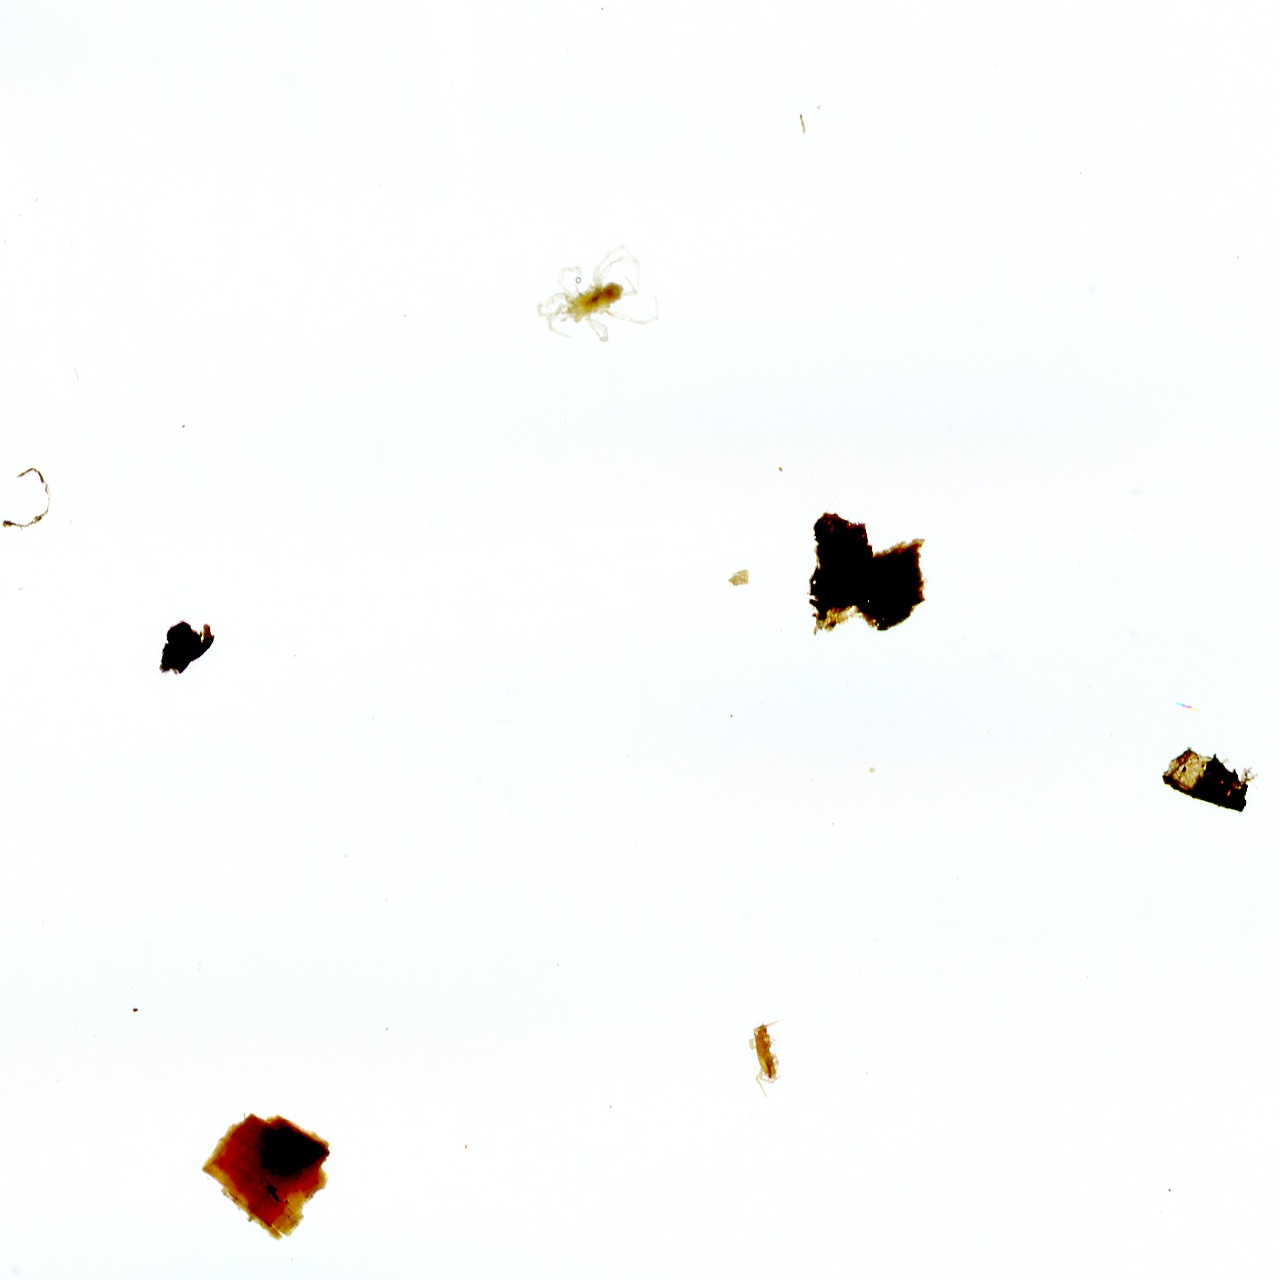arthropod: (531, 234, 668, 348), (745, 1014, 787, 1101)
